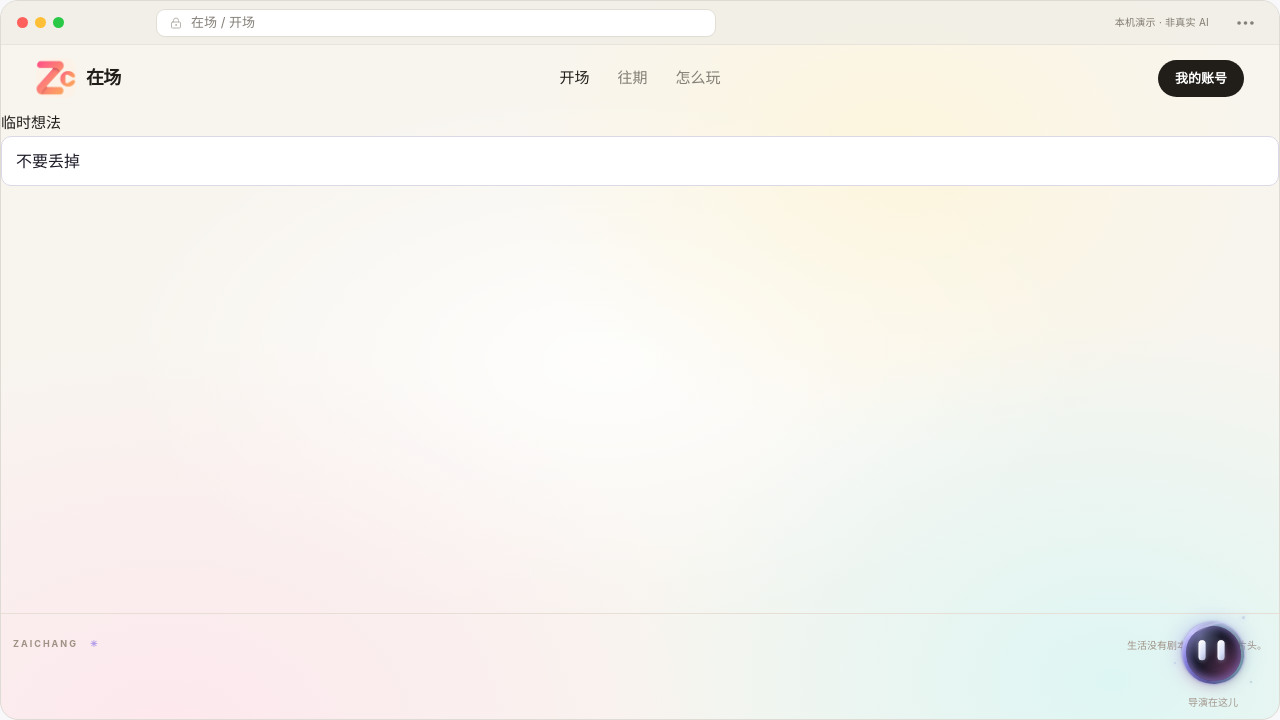
Test case: confirms home logout and keeps the draft and readable dialog error until logout actually succeeds
This screenshot has width=1280, height=720.
Later steps or results of the test are not shown.
Click the button "我的账号" at {"x": 1201, "y": 78}, box [1158, 60, 1244, 96]
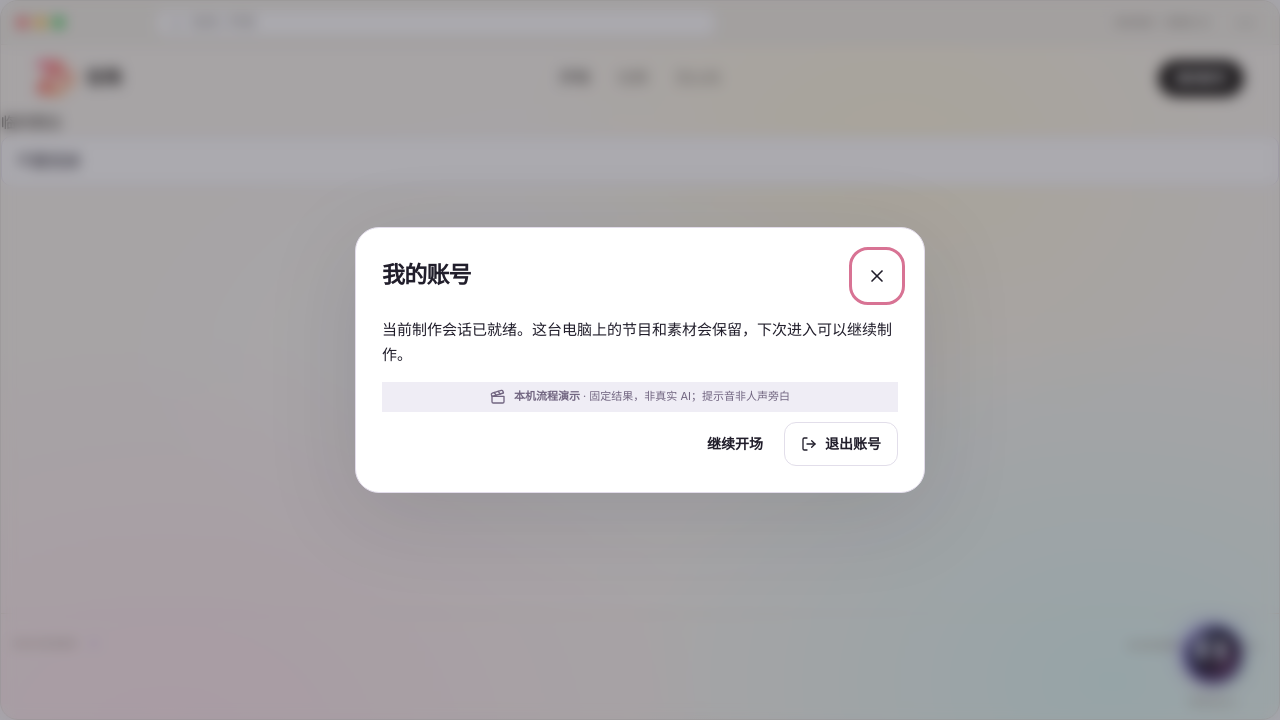
Click the button with aria-label "退出发起人身份" at {"x": 841, "y": 444}, box [784, 422, 898, 466]
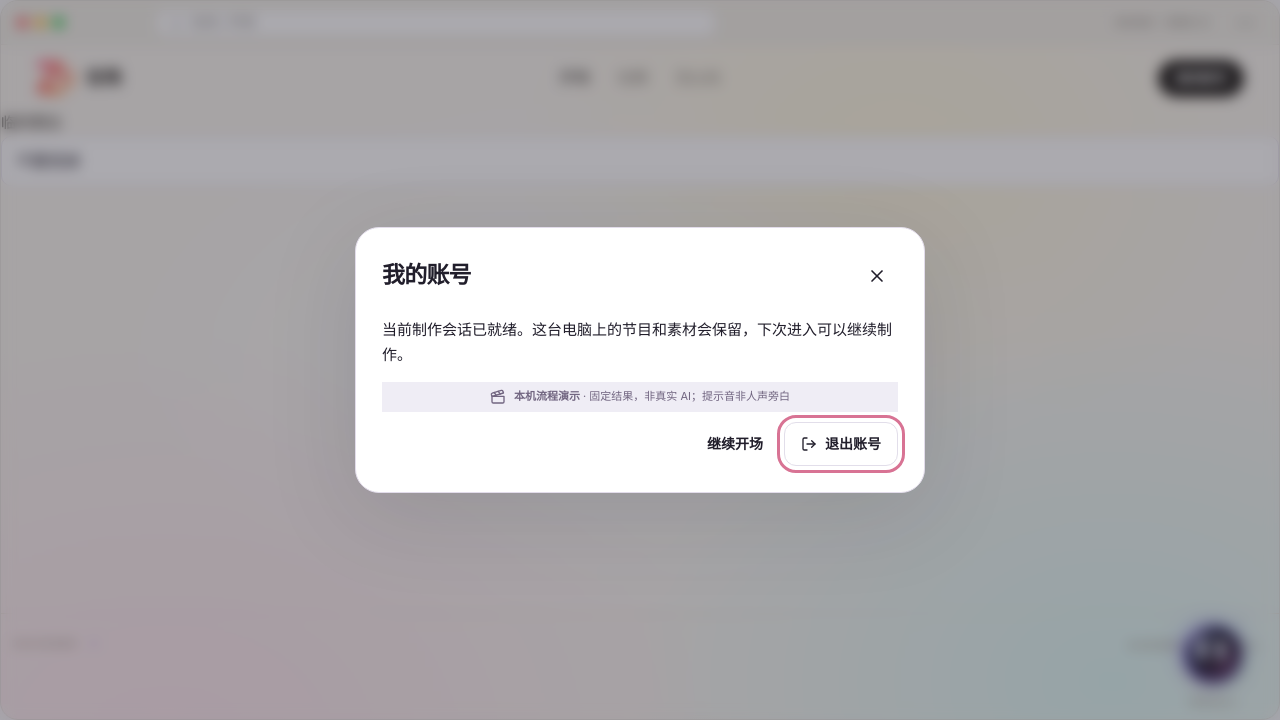
Click the button with aria-label "退出发起人身份" at {"x": 841, "y": 444}, box [784, 422, 898, 466]
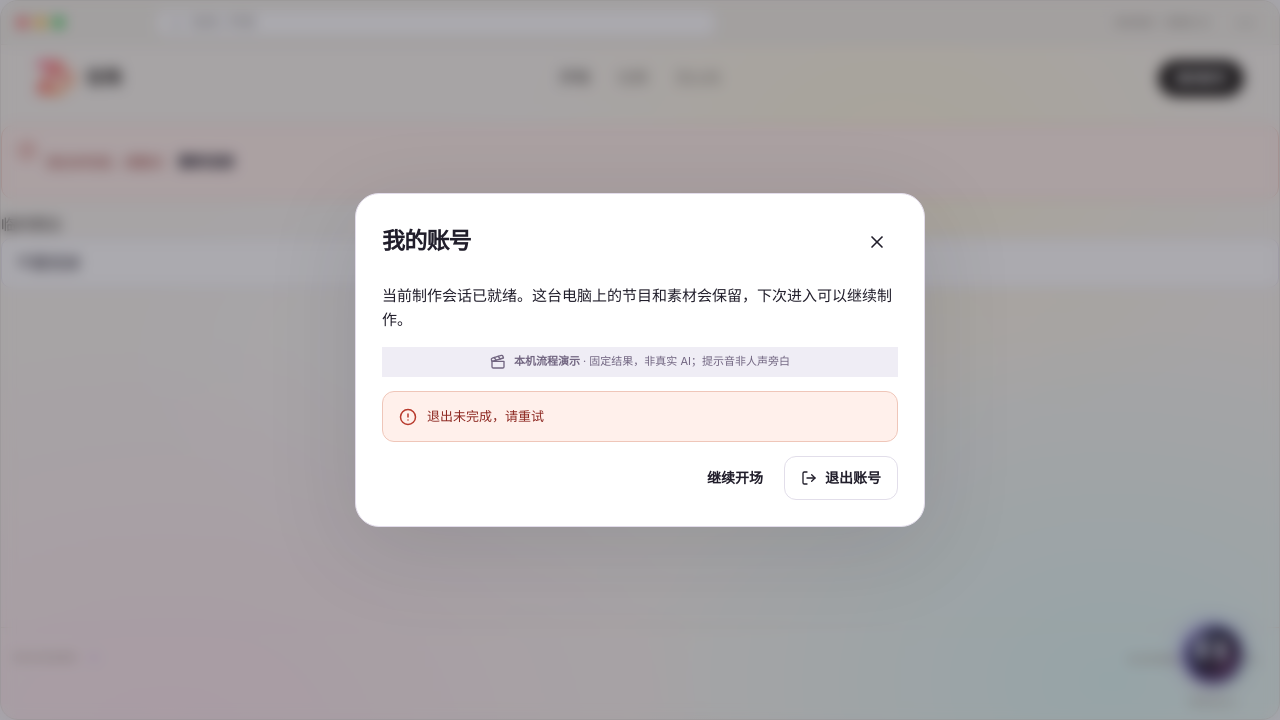
expect the field labelled "临时想法" holds "不要丢掉": met, box [1, 238, 1279, 288]
expect the message reads "退出未完成，请重试": met, box [427, 408, 544, 424]
